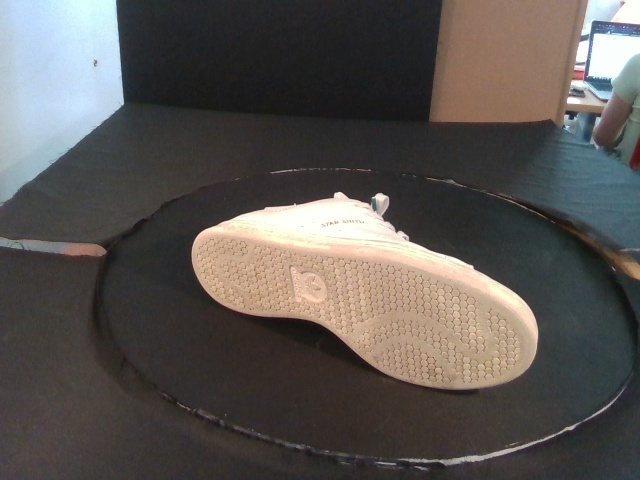shoe: (190, 197, 540, 392)
